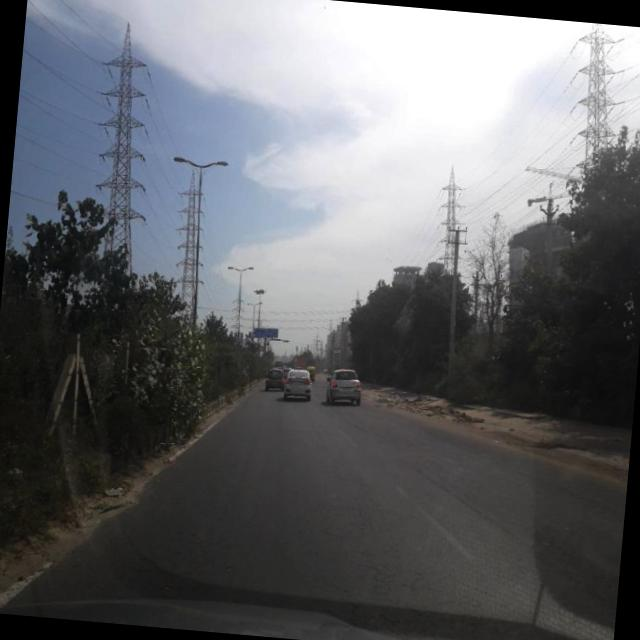crack: (42, 401, 627, 640)
